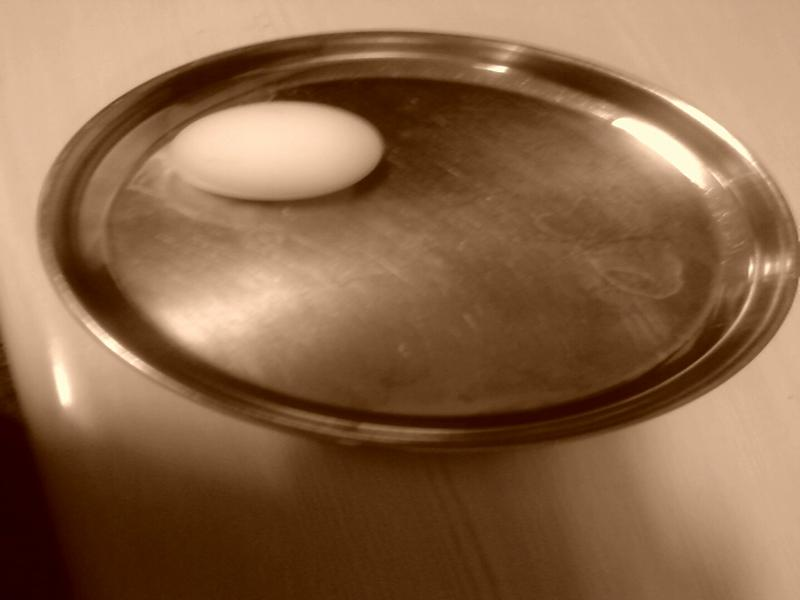egg: (173, 102, 379, 198)
